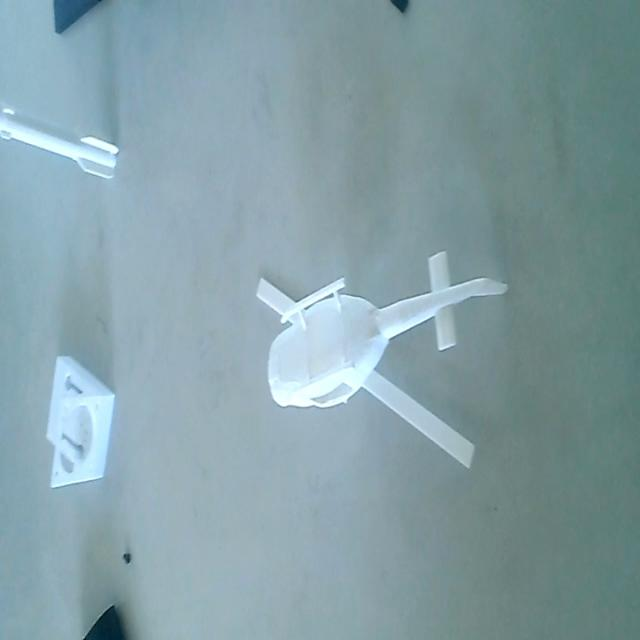Helicopter: (256, 250, 512, 475)
Rocket: (0, 96, 118, 186)
